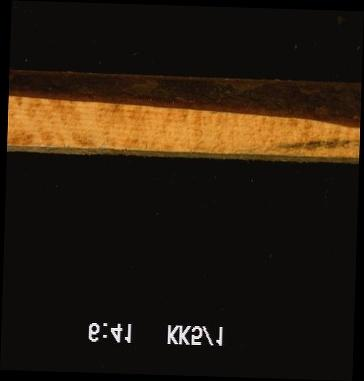wave: (8, 75, 360, 123)
